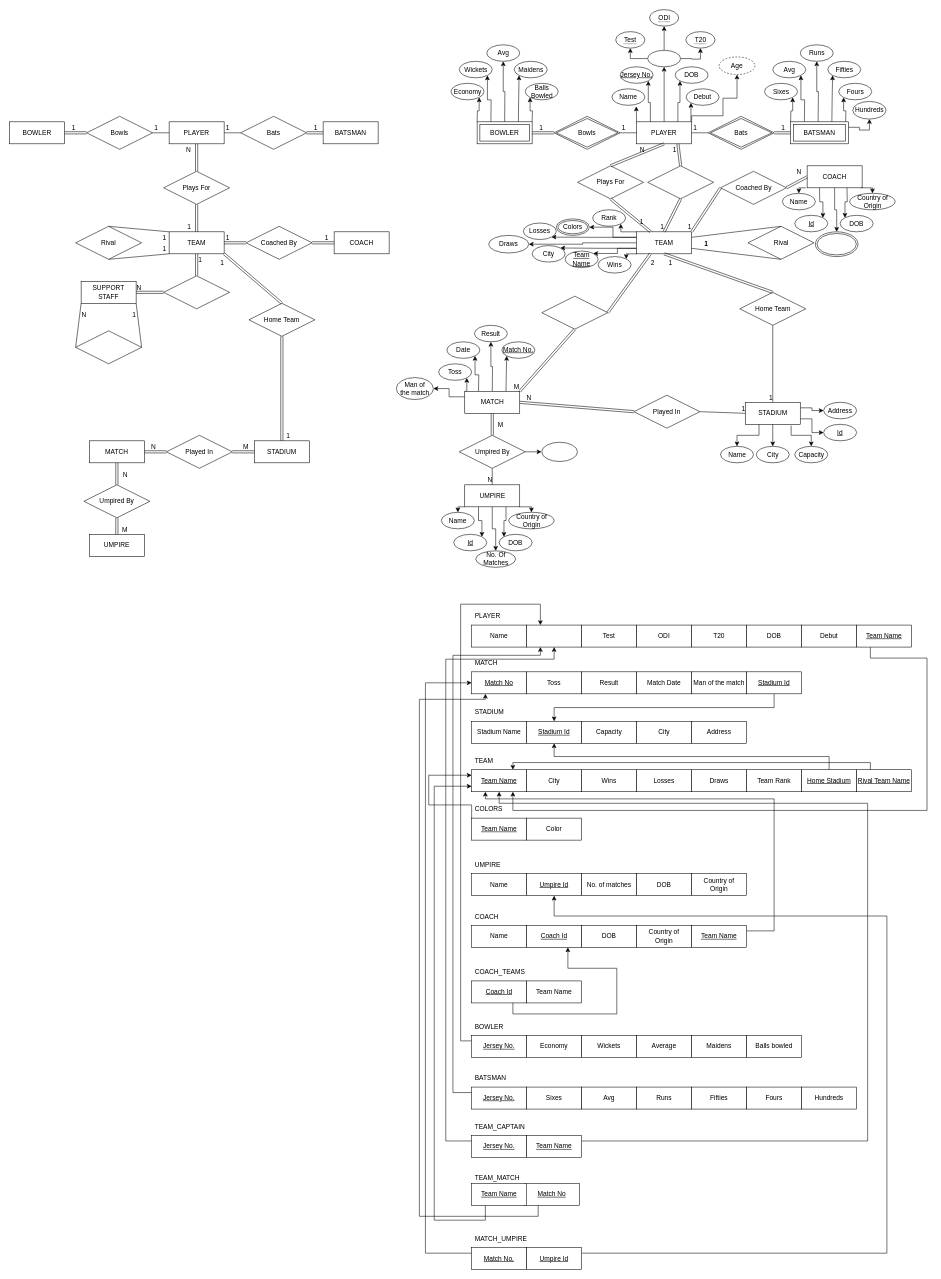
This 941x1279 diagram has some shape labels left out. Each missing label, with the centre of its shape:
"captain" belongs at [680,182].
"Jersey No" belongs at [554,636].
"Matches" belongs at [664,58].
"On Field/ Off Field" belongs at [559,452].
"plays" belongs at [574,312].
"Supervises" belongs at [108,347].
"Teams Coached" belongs at [836,244].
"Works For" belongs at [196,292].
